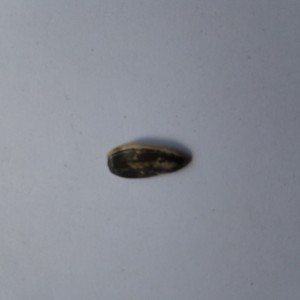girasol: (103, 139, 195, 183)
